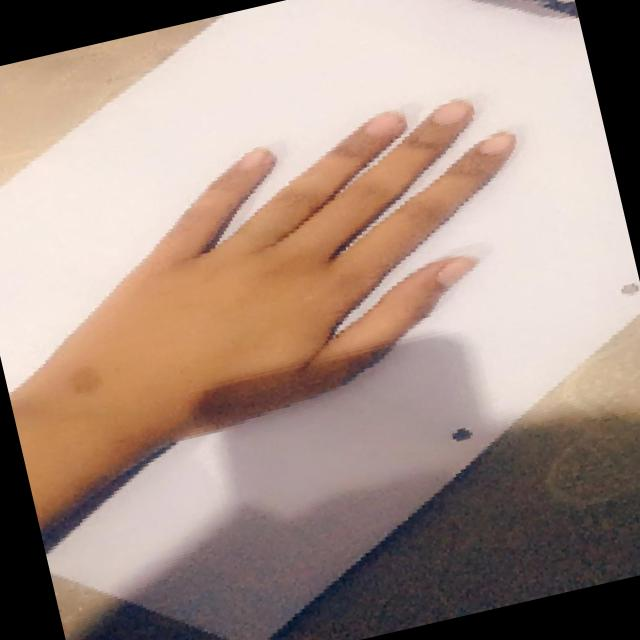Nail: (435, 256, 477, 289), (434, 99, 472, 124), (368, 110, 403, 137), (483, 130, 512, 155), (240, 148, 269, 171)
